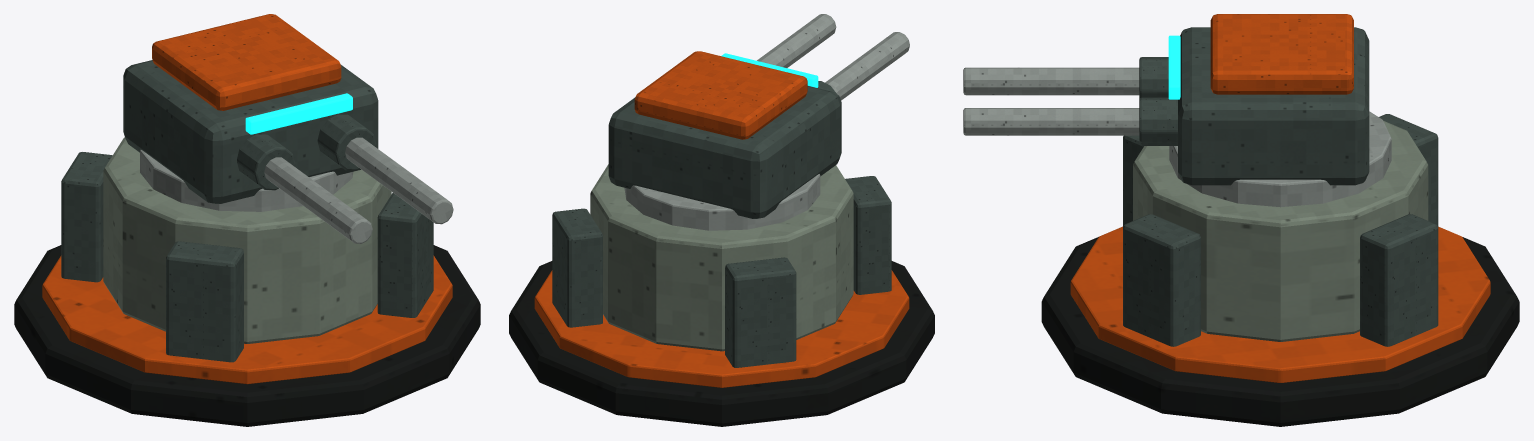
The model's file is ff_sen_01_v1.glb.
The picture shows the model from 3 angles, left to right: view 1: azimuth 30°, elevation 25°; view 2: azimuth 150°, elevation 25°; view 3: azimuth 270°, elevation 25°; orthographic projection. The views are drawn at different scales.
Parts seen in each view (by area): view 1: armored_pedestal, foundation, foundation_trim, turret_body, turret_amber_cap, pedestal_brace_2, pedestal_brace_3, pedestal_brace_1, turret_ring, barrel_0, barrel_1, powered_targeting_strip (+2 smaller); view 2: armored_pedestal, foundation, turret_body, foundation_trim, turret_amber_cap, pedestal_brace_1, pedestal_brace_0, turret_ring, pedestal_brace_2, barrel_0, barrel_1, powered_targeting_strip; view 3: armored_pedestal, foundation, turret_body, foundation_trim, turret_amber_cap, pedestal_brace_0, pedestal_brace_3, barrel_0, turret_ring, barrel_1, barrel_shroud_1, pedestal_brace_1 (+3 smaller).
Part boxes in pixels (x1=…): armored_pedestal: x1=103, y1=137, x2=391, y2=343; foundation: x1=14, y1=245, x2=480, y2=426; foundation_trim: x1=42, y1=255, x2=452, y2=384; turret_body: x1=123, y1=60, x2=378, y2=203; turret_amber_cap: x1=152, y1=14, x2=341, y2=110; pedestal_brace_2: x1=166, y1=241, x2=243, y2=362; pedestal_brace_3: x1=377, y1=193, x2=433, y2=317; pedestal_brace_1: x1=61, y1=152, x2=112, y2=282; turret_ring: x1=140, y1=149, x2=353, y2=211; barrel_0: x1=264, y1=157, x2=372, y2=243; barrel_1: x1=345, y1=137, x2=453, y2=224; powered_targeting_strip: x1=245, y1=93, x2=352, y2=134; armored_pedestal: x1=590, y1=164, x2=853, y2=351; foundation: x1=509, y1=261, x2=934, y2=426; turret_body: x1=608, y1=86, x2=841, y2=218; foundation_trim: x1=534, y1=270, x2=909, y2=387; turret_amber_cap: x1=634, y1=51, x2=807, y2=139; pedestal_brace_1: x1=725, y1=257, x2=796, y2=367; pedestal_brace_0: x1=552, y1=208, x2=602, y2=327; turret_ring: x1=624, y1=174, x2=820, y2=230; pedestal_brace_2: x1=845, y1=176, x2=891, y2=294; barrel_0: x1=825, y1=32, x2=909, y2=100; barrel_1: x1=757, y1=14, x2=836, y2=67; powered_targeting_strip: x1=721, y1=53, x2=818, y2=87; armored_pedestal: x1=1133, y1=121, x2=1428, y2=341; foundation: x1=1041, y1=237, x2=1519, y2=426; turret_body: x1=1178, y1=27, x2=1369, y2=185; foundation_trim: x1=1070, y1=226, x2=1490, y2=382; turret_amber_cap: x1=1210, y1=14, x2=1353, y2=94; pedestal_brace_0: x1=1360, y1=214, x2=1438, y2=346; pedestal_brace_3: x1=1123, y1=214, x2=1200, y2=346; barrel_0: x1=963, y1=67, x2=1139, y2=95; turret_ring: x1=1169, y1=111, x2=1391, y2=207; barrel_1: x1=963, y1=108, x2=1139, y2=135; barrel_shroud_1: x1=1139, y1=97, x2=1177, y2=145; pedestal_brace_1: x1=1379, y1=114, x2=1438, y2=227.
Bounding box in the file's own units: 5.5 × 3.64 × 6.4.
Materials: 6 (5 with a texture image).
